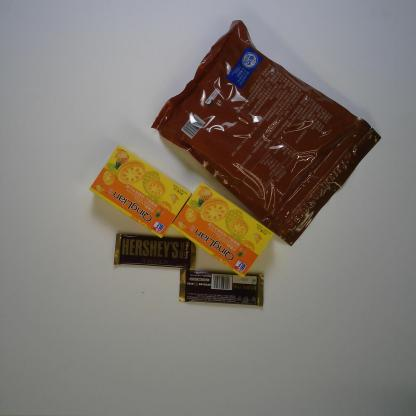Chocolate: (175, 266, 266, 308), (111, 230, 202, 271)
Dessert: (169, 181, 275, 281), (88, 144, 192, 241)
Dried Food: (146, 15, 381, 250)
